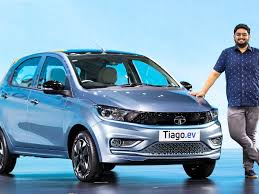Tiago: (1, 45, 224, 187)
